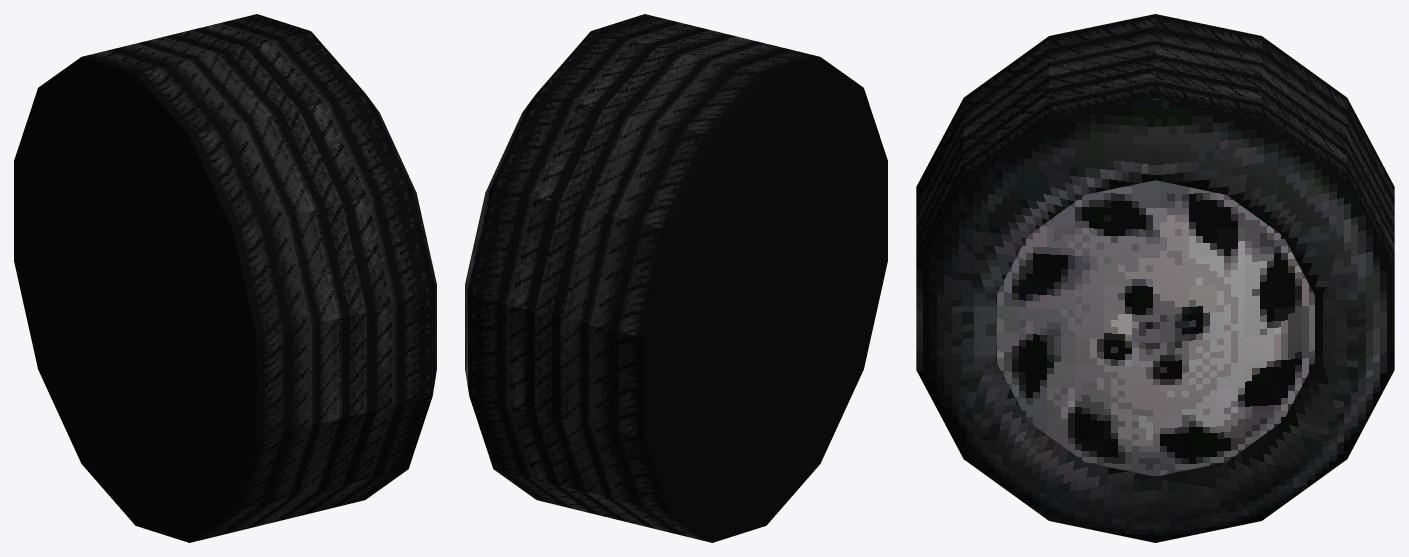
Rendered from Saloon_Wheel.fbx.
3 views of the same model, side by side, from view 1: azimuth 30°, elevation 25°; view 2: azimuth 150°, elevation 25°; view 3: azimuth 270°, elevation 25° (orthographic).
Visible parts, largest first — view 1: wheel_saloon_l0; view 2: wheel_saloon_l0; view 3: wheel_saloon_l0.
Part boxes in pixels (x1,y1,x2,y2): wheel_saloon_l0: [14, 14, 436, 542]; wheel_saloon_l0: [465, 14, 887, 542]; wheel_saloon_l0: [916, 14, 1394, 542].
Bounding box in the file's own units: 50.17 × 99.92 × 97.42.
Materials: 3 (2 with a texture image).
